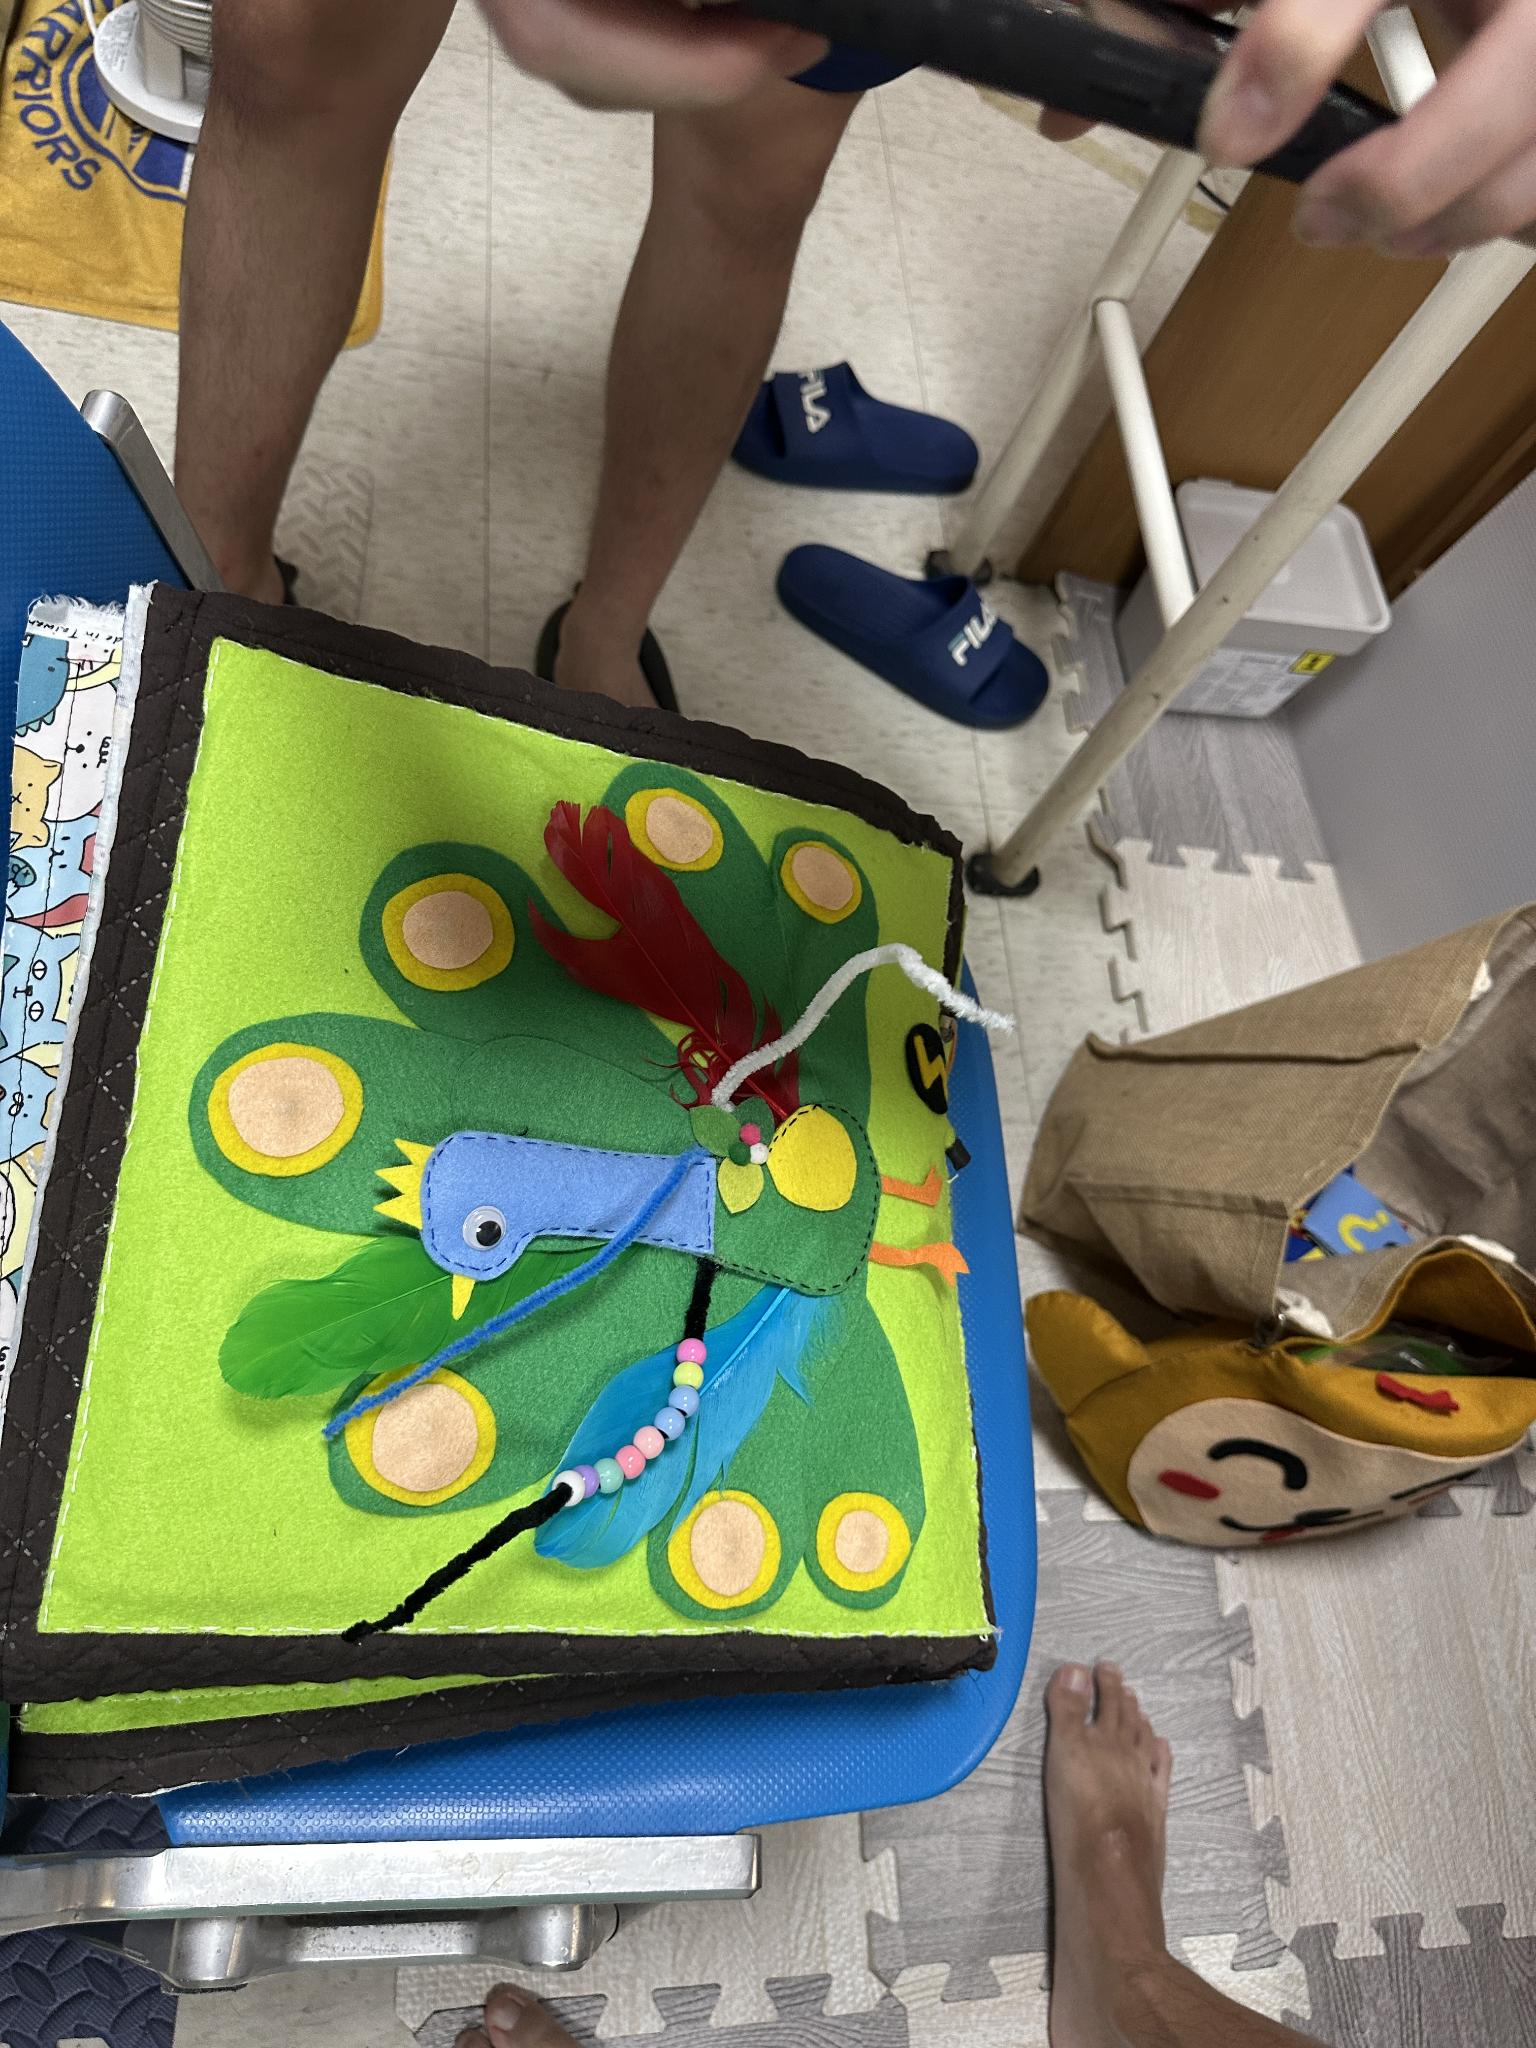bead: (665, 1382, 705, 1421), (624, 1429, 671, 1458), (578, 1459, 603, 1508), (649, 1411, 687, 1443), (618, 1442, 647, 1482), (594, 1453, 621, 1495), (552, 1467, 579, 1508), (676, 1332, 707, 1366), (673, 1363, 707, 1385)
